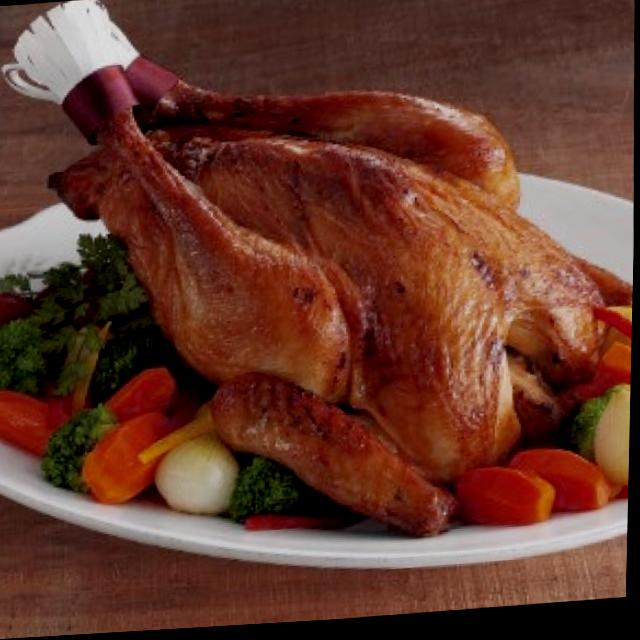鸡肉料理 含炸鸡: (0, 0, 631, 577)
